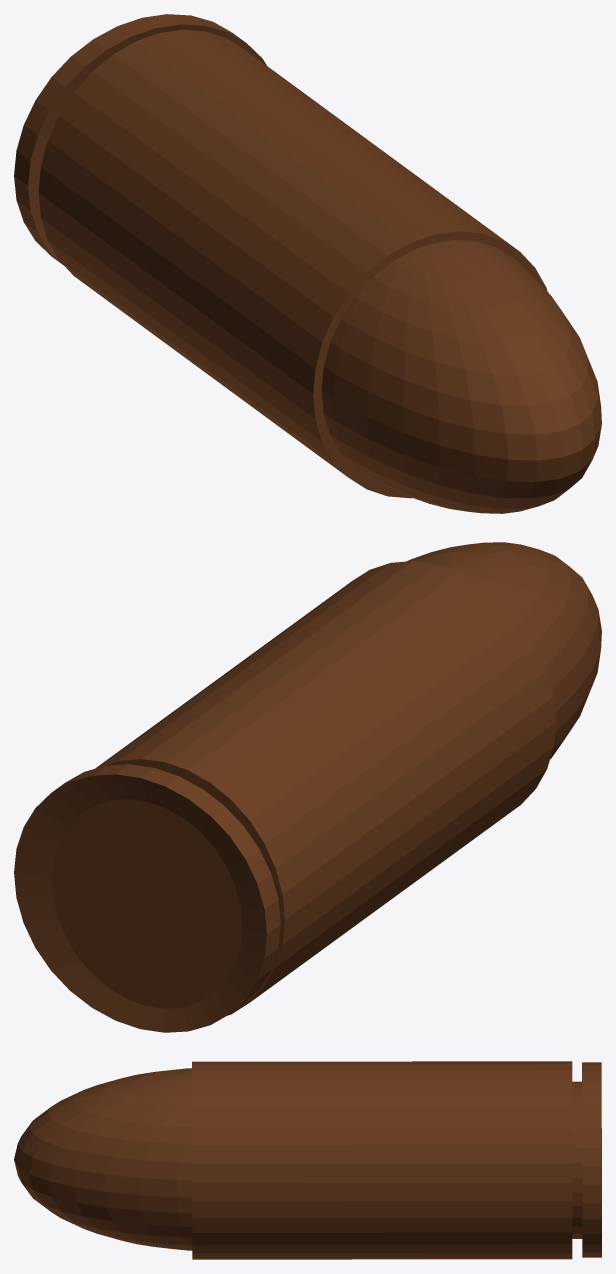
File: 9mmBullet.glb
The picture shows the model from 3 angles, top to bottom: view 1: azimuth 30°, elevation 25°; view 2: azimuth 150°, elevation 25°; view 3: azimuth 270°, elevation 25°; orthographic projection. The views are drawn at different scales.
Visible parts, largest first — view 1: Cylinder; view 2: Cylinder; view 3: Cylinder.
Part boxes in pixels (x1=…): Cylinder: x1=14, y1=14, x2=601, y2=513; Cylinder: x1=14, y1=542, x2=601, y2=1032; Cylinder: x1=14, y1=1061, x2=601, y2=1259.
Bounding box in the file's own units: 1.03 × 1.01 × 2.97.
1 material, 1 textured.
